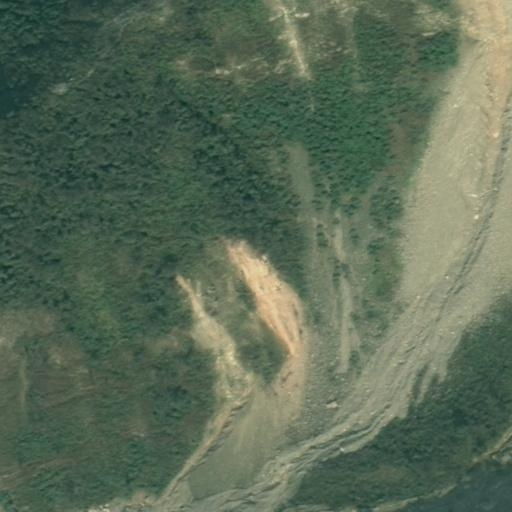landslide: (184, 2, 508, 509), (169, 234, 308, 405)
